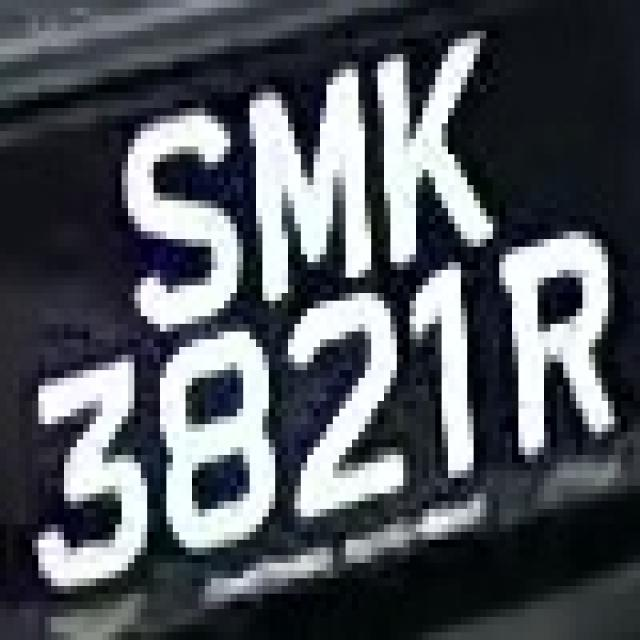1: (422, 232, 473, 524)
2: (275, 308, 410, 524)
3: (7, 324, 166, 586)
8: (148, 309, 294, 555)
K: (358, 31, 499, 262)
M: (218, 70, 378, 332)
R: (506, 239, 634, 470)
S: (103, 92, 250, 362)
